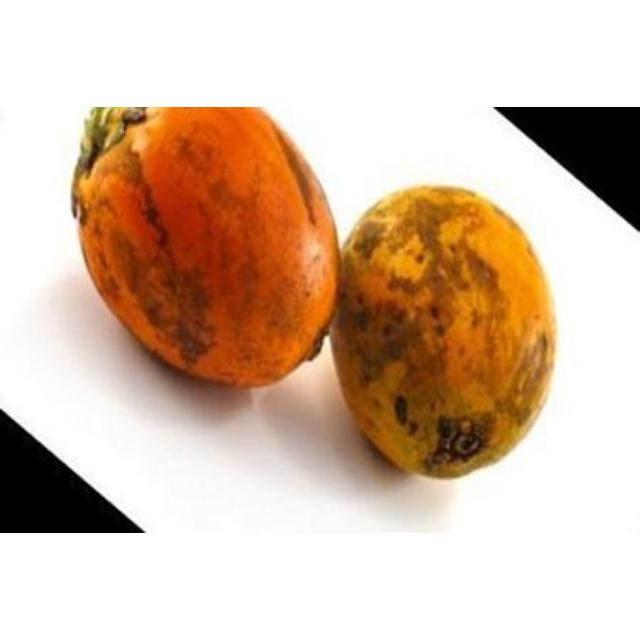good: (71, 107, 340, 391), (327, 185, 558, 482)
